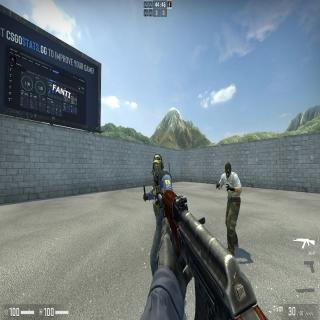CT-Body: (224, 163, 241, 254), (153, 155, 172, 226)
CT-Head: (154, 155, 161, 175), (224, 161, 232, 177)
